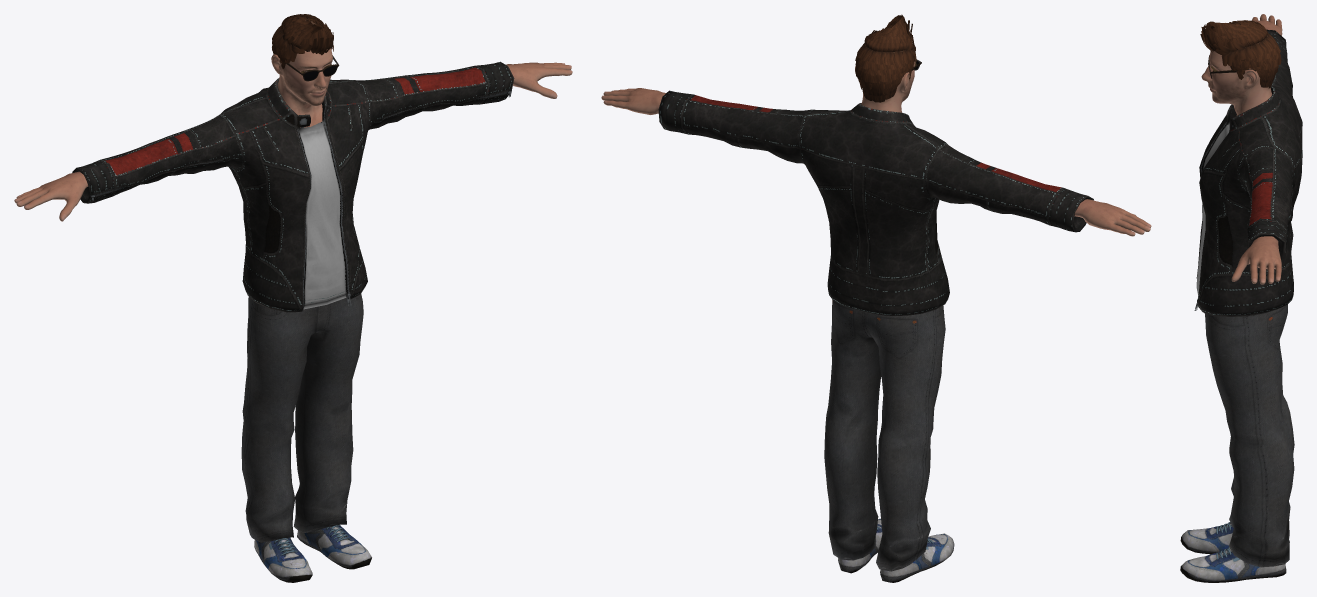
The picture shows the model from 3 angles, left to right: view 1: azimuth 30°, elevation 25°; view 2: azimuth 150°, elevation 25°; view 3: azimuth 270°, elevation 25°; orthographic projection.
Visible parts, largest first — view 1: Tops, Bottoms, Body, Shoes, Hair; view 2: Tops, Bottoms, Body, Hair, Shoes; view 3: Tops, Bottoms, Body, Hair, Shoes.
Part boxes in pixels (x1=…): Tops: x1=72, y1=61, x2=514, y2=312; Bottoms: x1=241, y1=293, x2=363, y2=542; Body: x1=14, y1=19, x2=572, y2=221; Shoes: x1=254, y1=524, x2=371, y2=582; Hair: x1=272, y1=14, x2=333, y2=68; Tops: x1=658, y1=90, x2=1093, y2=315; Bottoms: x1=824, y1=300, x2=945, y2=571; Body: x1=601, y1=45, x2=1151, y2=236; Hair: x1=855, y1=14, x2=916, y2=102; Shoes: x1=838, y1=518, x2=954, y2=582; Tops: x1=1194, y1=29, x2=1302, y2=316; Bottoms: x1=1204, y1=304, x2=1294, y2=567; Body: x1=1201, y1=14, x2=1282, y2=284; Hair: x1=1200, y1=20, x2=1281, y2=88; Shoes: x1=1180, y1=522, x2=1286, y2=582.
Size of the model in its own units: 197 by 184 by 37.63.
6 materials, 6 textured.
